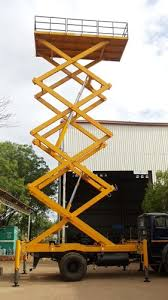Scissor Lift: (14, 13, 150, 290)
